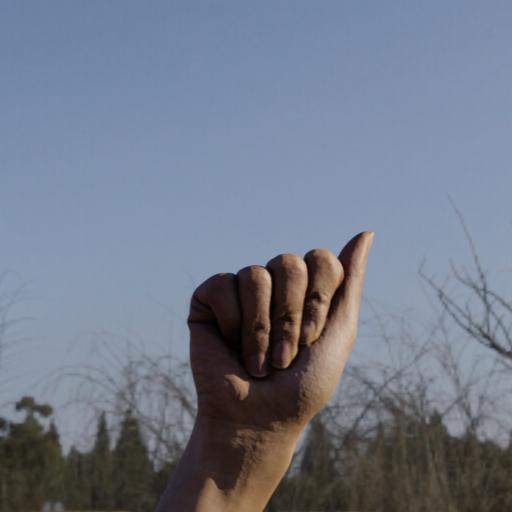A: (155, 171, 449, 436)
